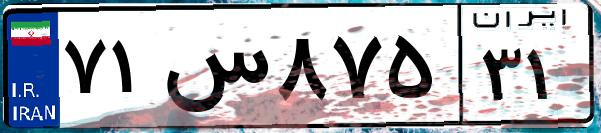1: (525, 38, 570, 115), (110, 28, 158, 98)
3: (475, 38, 525, 113)
5: (385, 28, 445, 110)
7: (330, 28, 385, 110), (57, 26, 110, 100)
8: (270, 28, 330, 110)
س: (158, 20, 270, 120)
